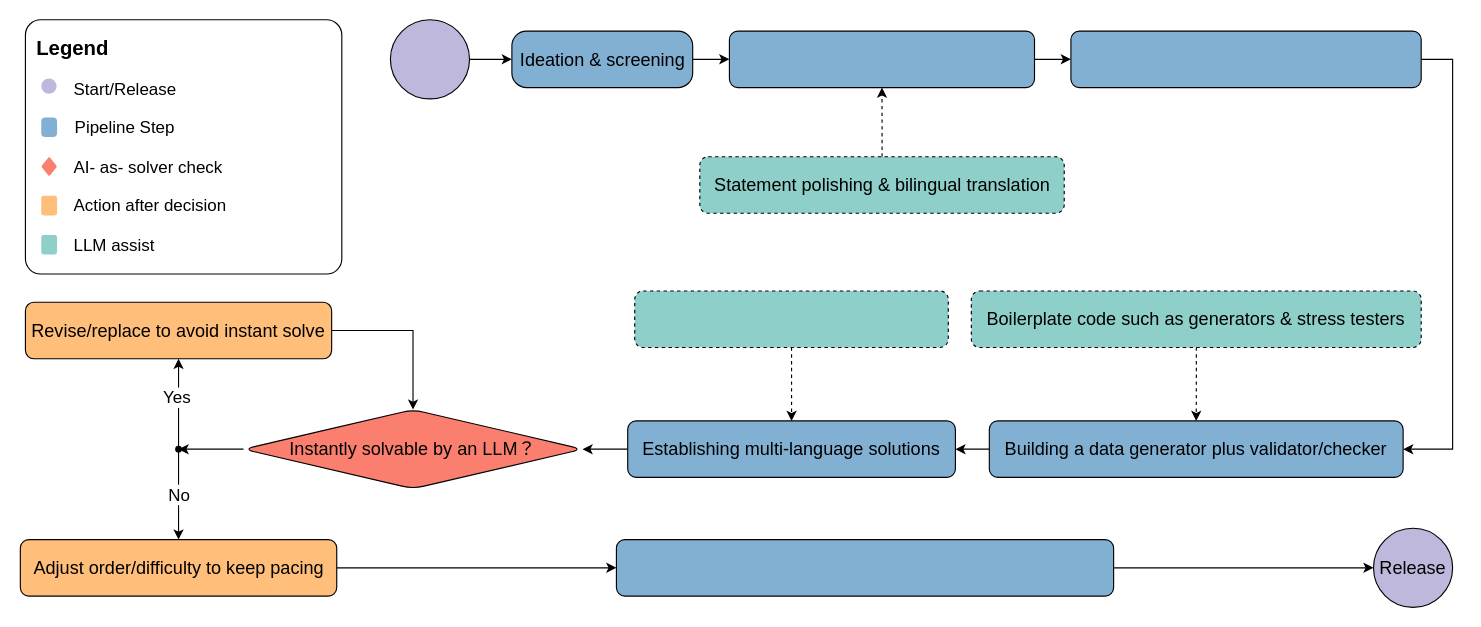
The diagram is 1481 pixels wide and 627 high, and some of its shapes have lost their labels. The shapes that lost their labels are listed below. From the top down, each one's box as (x1, y1, x2, y2) in pixels, then its label:
(389, 19, 470, 99): Start
(728, 30, 1035, 88): Drafting the statement and samples
(1070, 30, 1421, 88): Proving and writing the standard solution
(634, 290, 948, 347): Programming language translation
(615, 538, 1114, 596): Limited external testing, polishing, and packaging/upload
